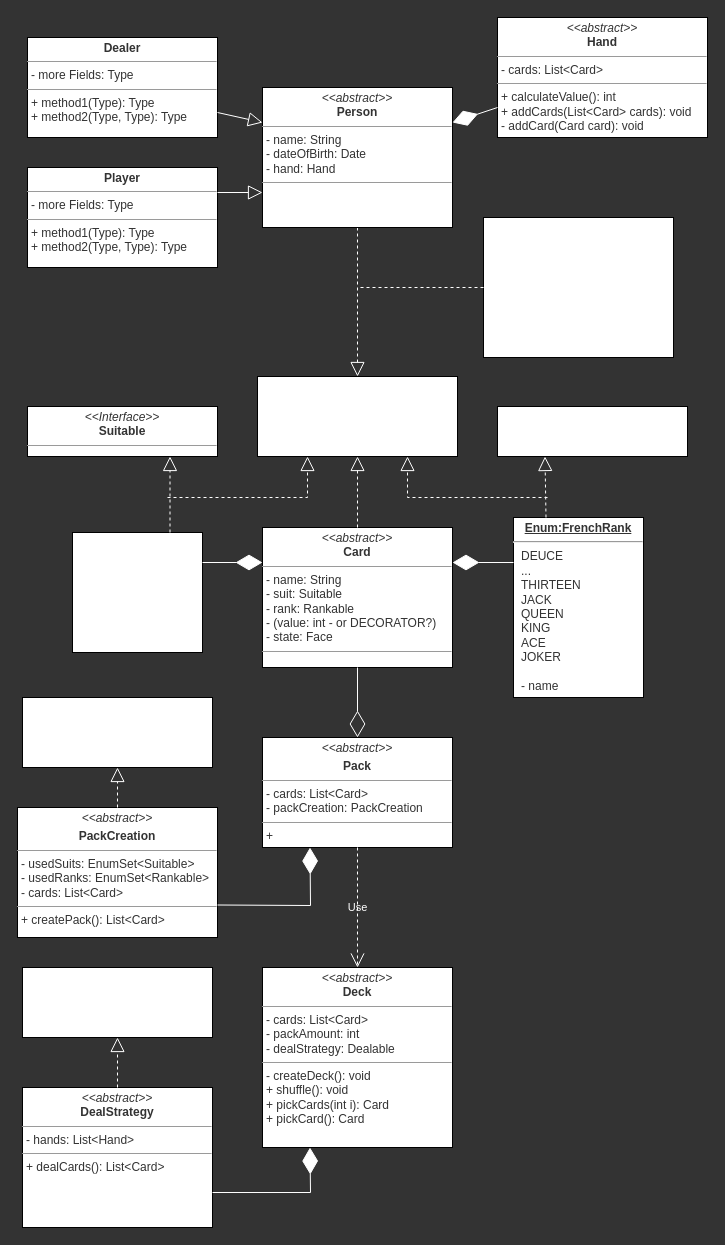
The diagram is 725 pixels wide and 1245 high, and some of its shapes have lost their labels. The shapes that lost their labels are listed below. From the top down, each one's box as (x1, y1, x2, y2) in pixels, then its label:
(482, 216, 674, 358): <<abstract>> Game - name: String - deck: Deck - goal: Goal
(256, 376, 458, 456): <<Interface>> Nameable + getName(): String + setName(String name): void
(496, 406, 688, 456): <<Interface>> Rankable
(72, 532, 202, 652): Enum:FrenchSuit CLUB DIAMOND HEART SPADE - name
(22, 696, 212, 768): <<Interface>> Packable + createPack(): List<Card>
(22, 966, 212, 1038): <<Interface>> Dealable + dealCards(): List<Card>
